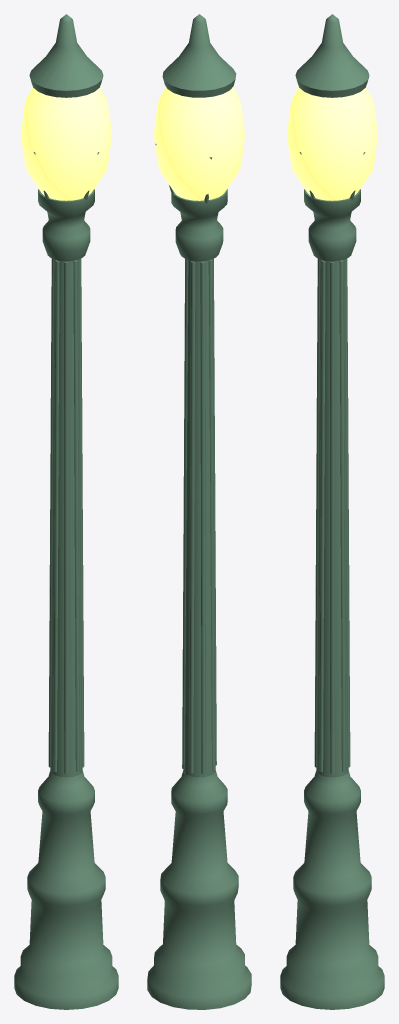
Rendered from lamp_post.glb.
The picture shows the model from 3 angles, left to right: view 1: azimuth 90°, elevation 25°; view 2: azimuth 150°, elevation 25°; view 3: azimuth 270°, elevation 25°; orthographic projection.
Parts seen in each view (by area): view 1: lamp_post; view 2: lamp_post; view 3: lamp_post.
Part boxes in pixels (x1=…): lamp_post: x1=14, y1=14, x2=118, y2=1009; lamp_post: x1=147, y1=14, x2=251, y2=1009; lamp_post: x1=280, y1=14, x2=384, y2=1009.
Bounding box in the file's own units: 0.48 × 4.93 × 0.48.
